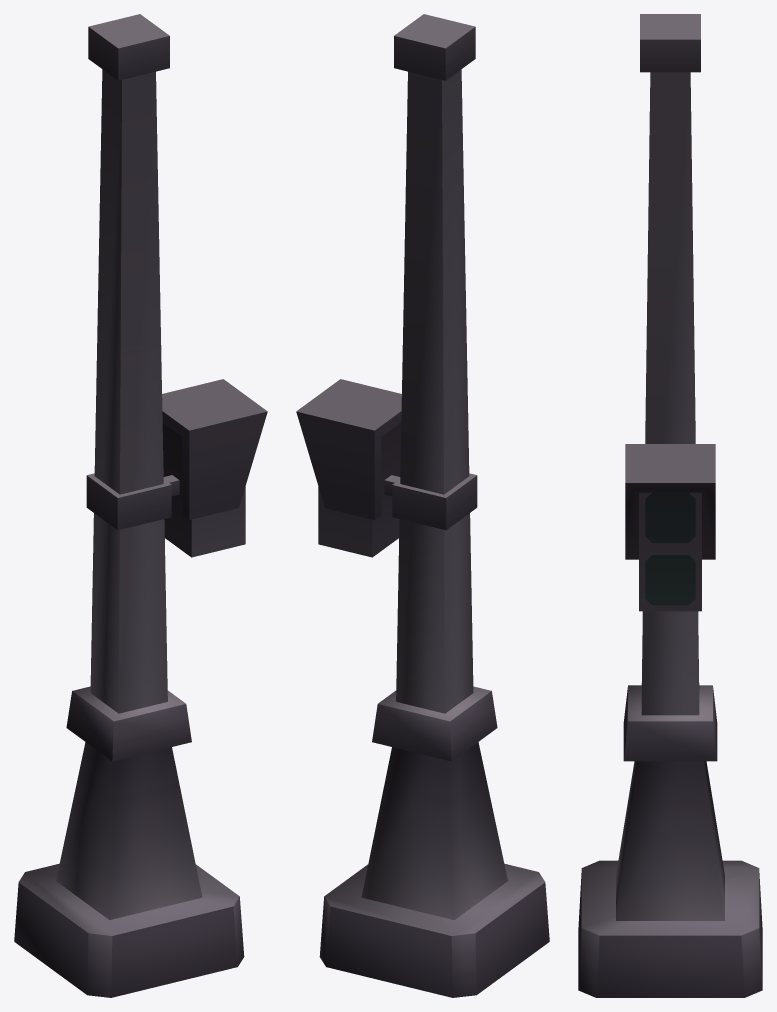
File: Streetlight_3B.fbx
The picture shows the model from 3 angles, left to right: view 1: azimuth 30°, elevation 25°; view 2: azimuth 150°, elevation 25°; view 3: azimuth 270°, elevation 25°; orthographic projection.
Visible parts, largest first — view 1: Streetlight_3B; view 2: Streetlight_3B; view 3: Streetlight_3B.
Boxes of the visible parts, x1,y1,x2,y2 form: Streetlight_3B: (14,14,267,997); Streetlight_3B: (296,14,549,997); Streetlight_3B: (578,14,762,997).
Bounding box in the file's own units: 135 × 609 × 109.
